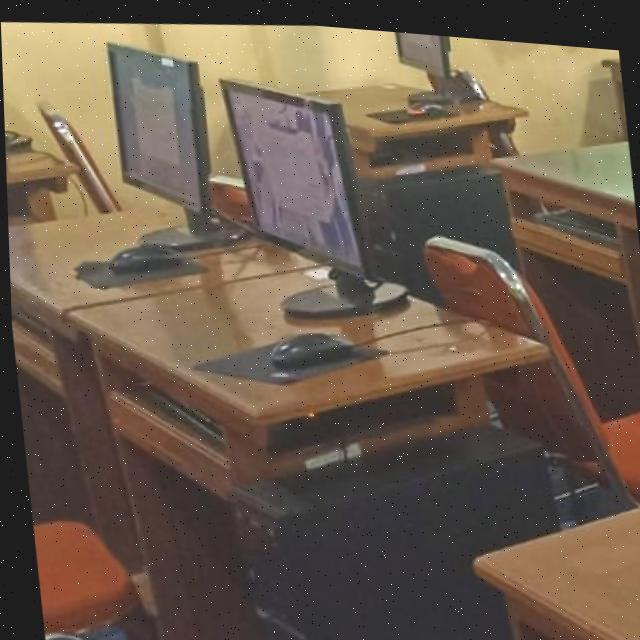onscreen: (220, 81, 368, 277), (110, 47, 194, 202), (393, 25, 441, 65)
